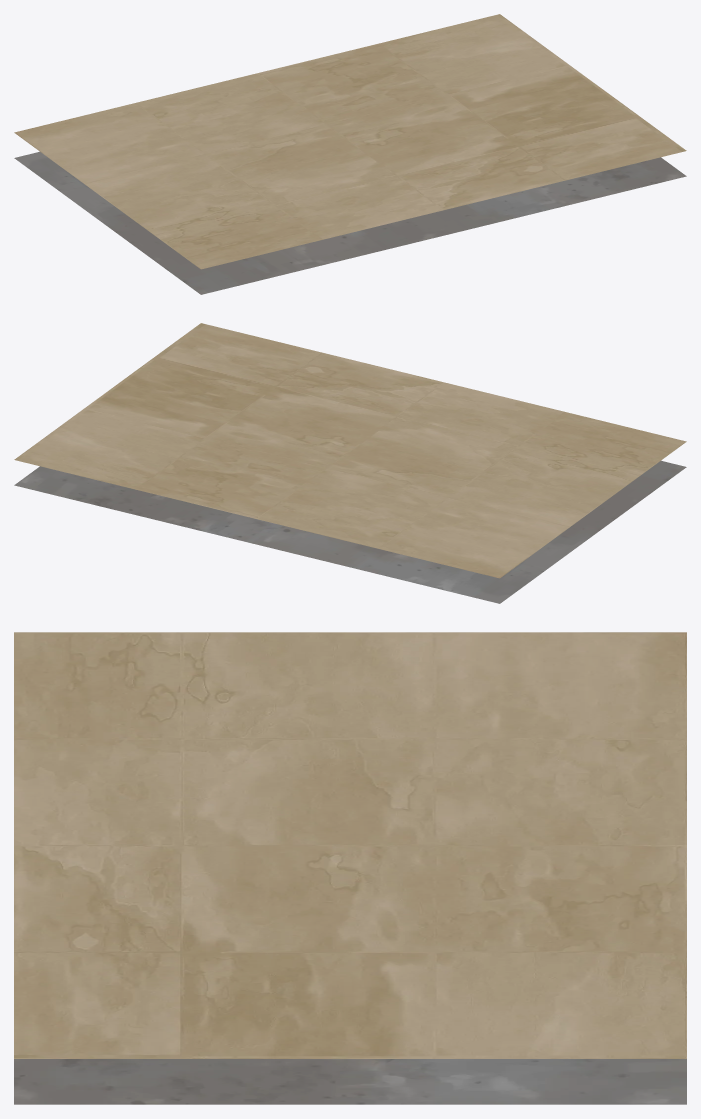
The model's file is Floor_Inset.glb.
3 views of the same model, one above another, from view 1: azimuth 30°, elevation 25°; view 2: azimuth 150°, elevation 25°; view 3: azimuth 270°, elevation 25° (orthographic). The views are drawn at different scales.
Parts seen in each view (by area): view 1: Floor_Inset; view 2: Floor_Inset; view 3: Floor_Inset.
Part boxes in pixels (x1,y1,x2,y2): Floor_Inset: [14, 14, 686, 294]; Floor_Inset: [14, 323, 686, 603]; Floor_Inset: [14, 632, 686, 1104].
Bounding box in the file's own units: 2 × 0.1001 × 1.33.
Materials: 2 (2 with a texture image).
